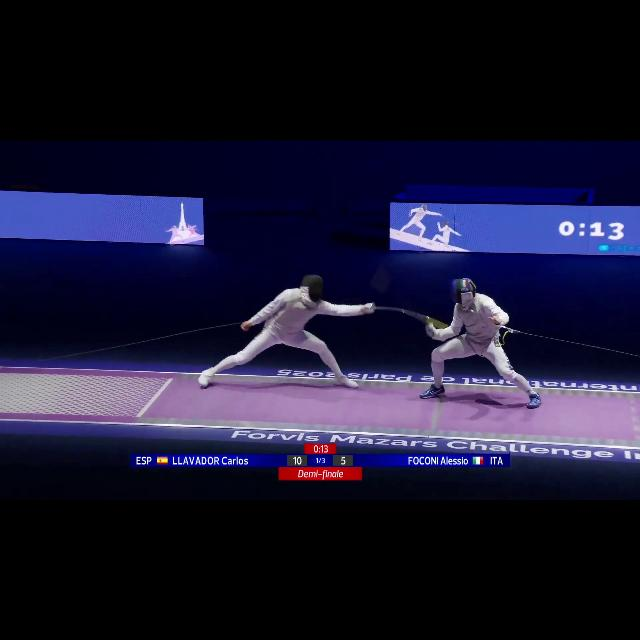blade: (366, 300, 454, 328)
